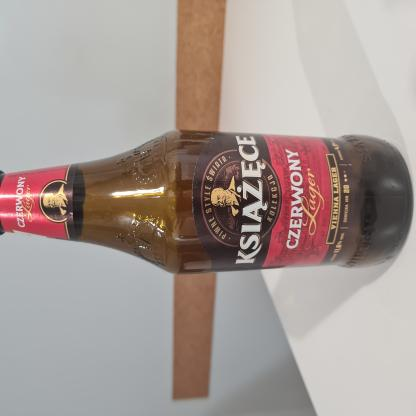Can: (0, 128, 414, 274)
